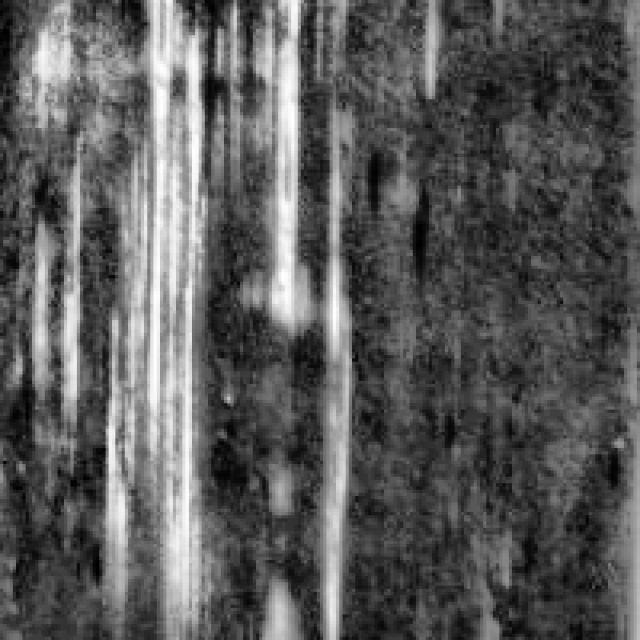Inclusion: (93, 0, 208, 422), (224, 0, 320, 333), (297, 246, 358, 637)
